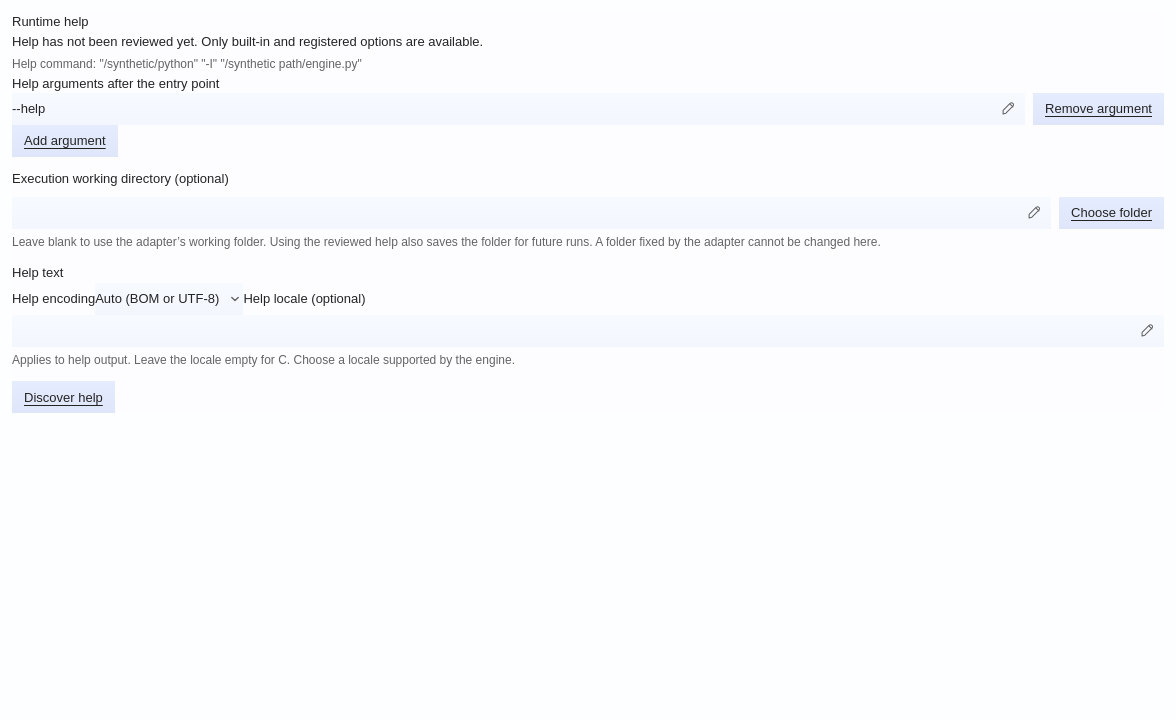
Test: shows failed help diagnostics containing cancelled without allowing acceptance
What coordinates should you click on to do the following:
click the button "Discover help"
I would click on:
 (63, 397)
Its box is [12, 381, 115, 413].
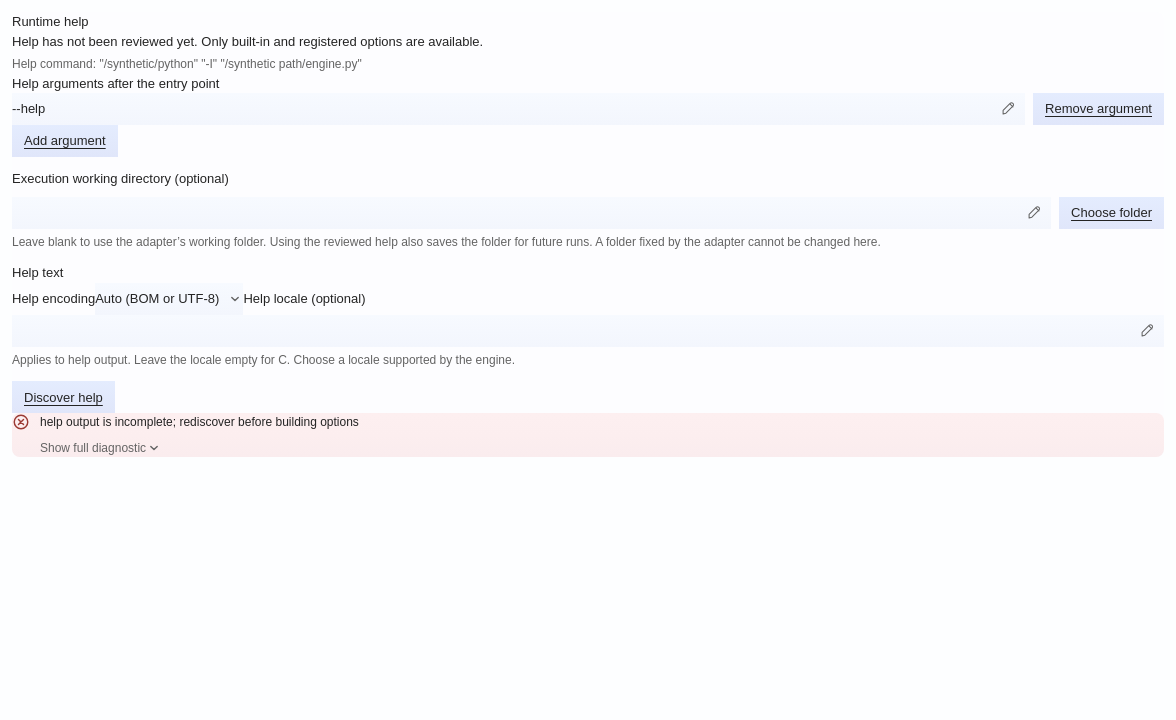
Expected: the 2nd message shows "help output is incomplete", [40, 415, 359, 429]
What coordinates should you click on to do the following:
click the heading "Show full diagnostic"
I would click on:
 (101, 448)
Its box is [40, 439, 162, 457].
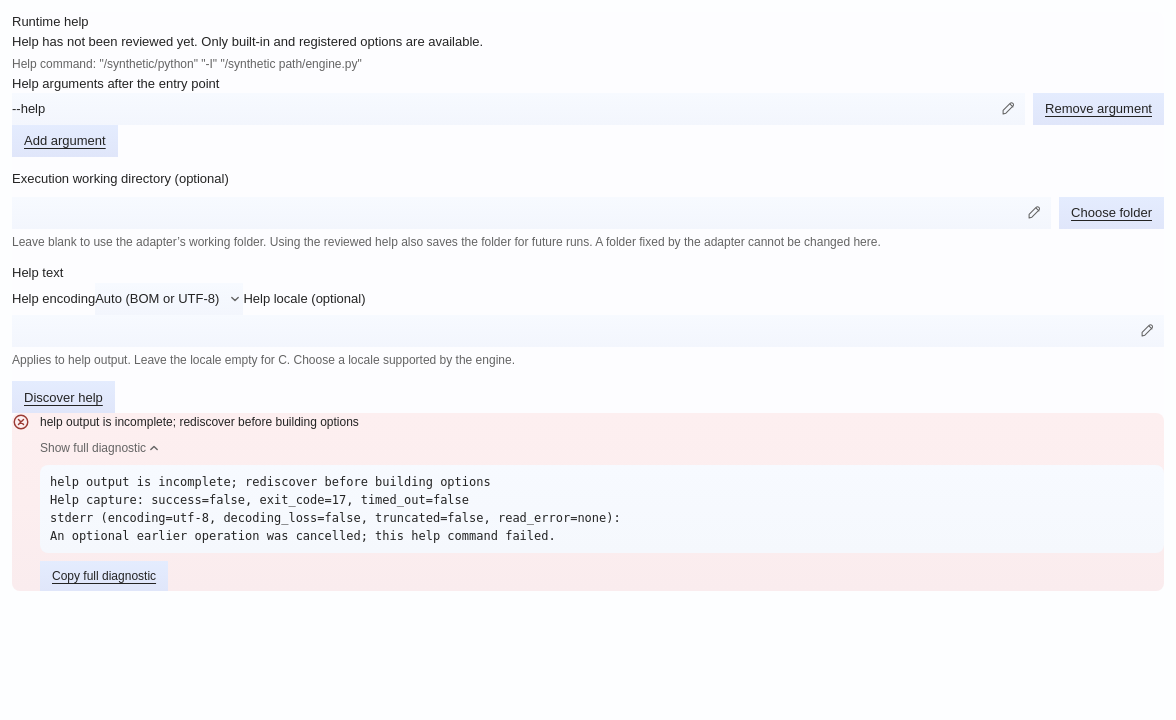
Expected: the element named "Full diagnostic" is shown, [40, 465, 1164, 553]
Expected: the element named "Full diagnostic" shows "exit_code=17", [50, 475, 621, 543]
Expected: the element named "Full diagnostic" shows "earlier operation was cancelled", [50, 475, 621, 543]
